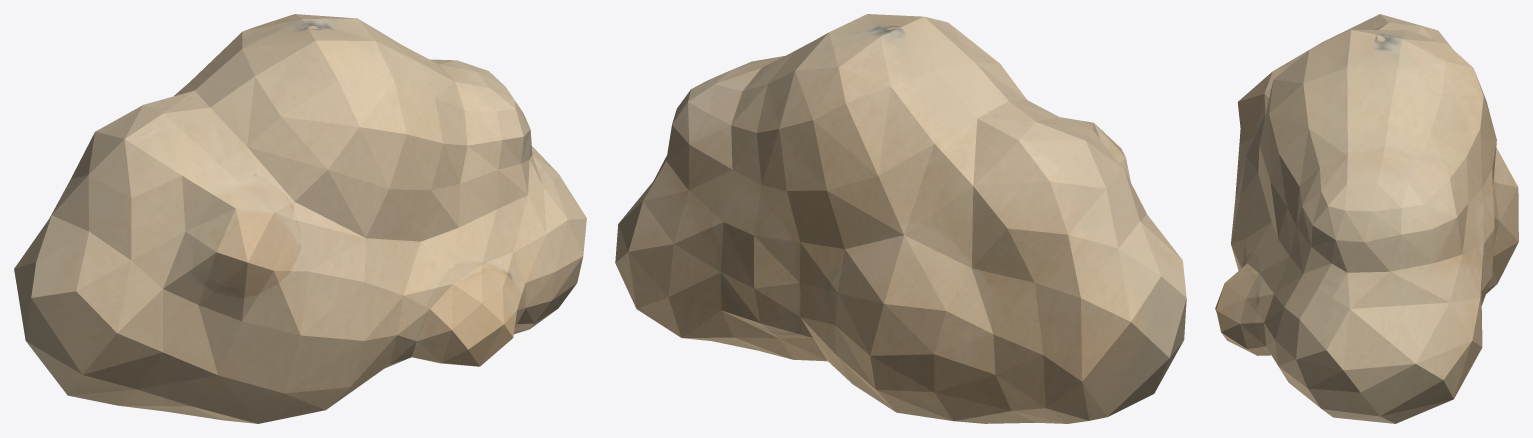
Rendered from Cloud_000.fbx.
The picture shows the model from 3 angles, left to right: view 1: azimuth 30°, elevation 25°; view 2: azimuth 150°, elevation 25°; view 3: azimuth 270°, elevation 25°; orthographic projection. The views are drawn at different scales.
Visible parts, largest first — view 1: Cloud.000; view 2: Cloud.000; view 3: Cloud.000.
Part boxes in pixels (x1,y1,x2,y2): Cloud.000: (14,14,586,423); Cloud.000: (615,14,1186,423); Cloud.000: (1215,14,1518,423).
Size of the model in its own units: 98.74 by 62.85 by 53.91.
